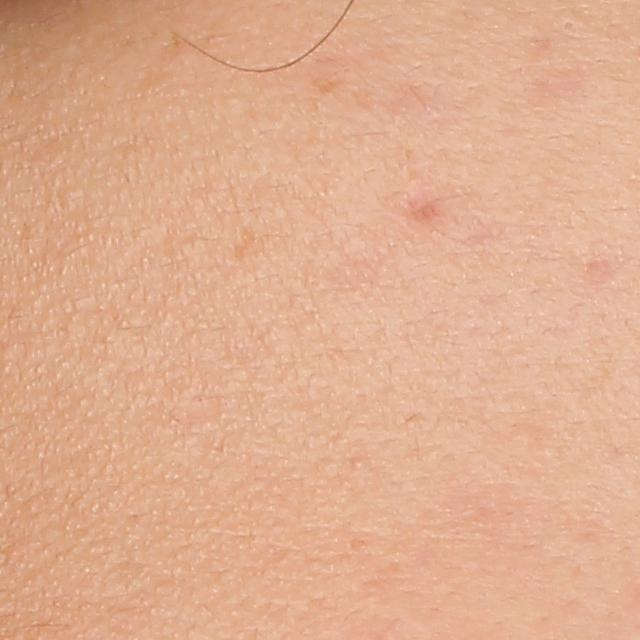comedo: (561, 16, 576, 35)
